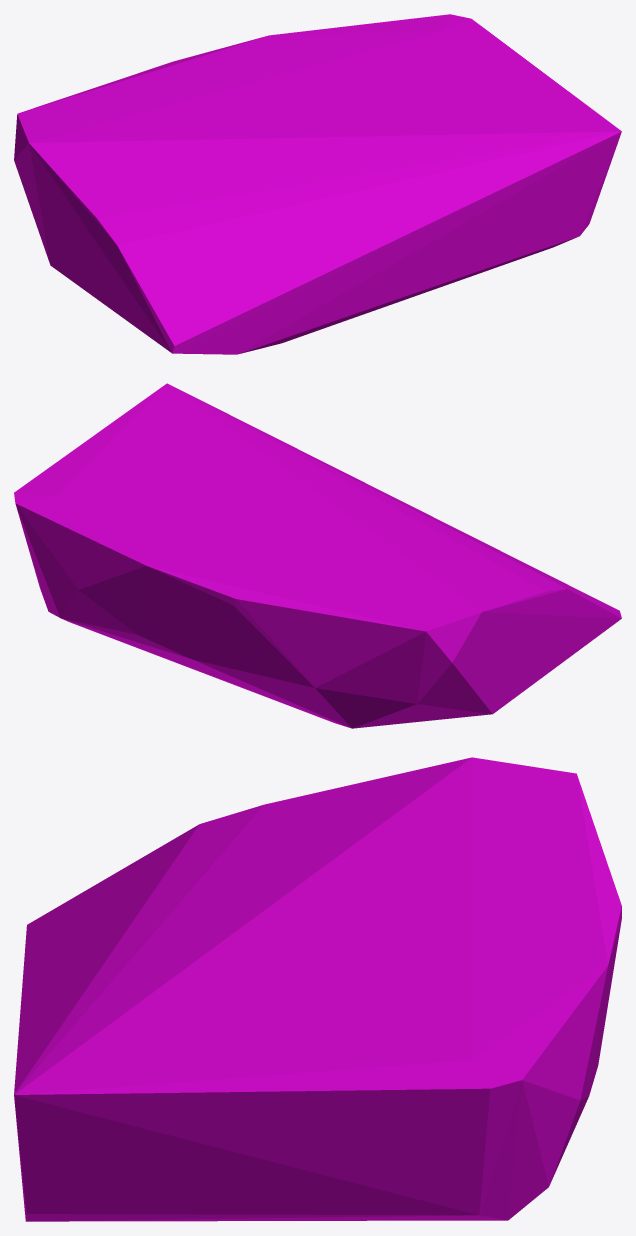
Rendered from hip-roll-housing_convex_piece_001.obj.
3 views of the same model, one above another, from view 1: azimuth 30°, elevation 25°; view 2: azimuth 150°, elevation 25°; view 3: azimuth 270°, elevation 25° (orthographic). The views are drawn at different scales.
Bounding box in the file's own units: 0.1126 × 0.034 × 0.0828.
